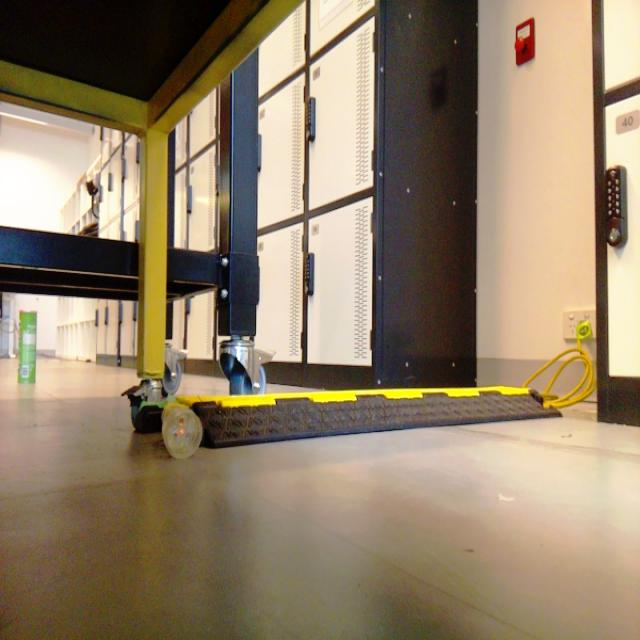greenpringles: (15, 302, 41, 392)
